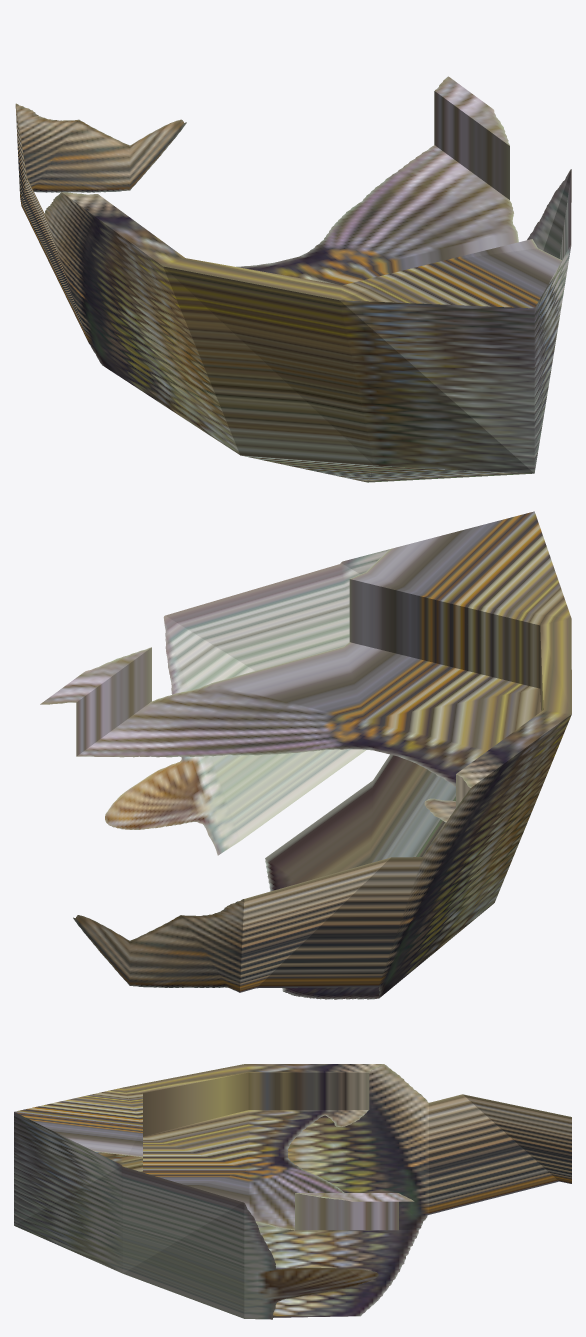
File: raft.obj
The picture shows the model from 3 angles, top to bottom: view 1: azimuth 30°, elevation 25°; view 2: azimuth 150°, elevation 25°; view 3: azimuth 270°, elevation 25°; orthographic projection. The views are drawn at different scales.
Visible parts, largest first — view 1: Cube; view 2: Cube; view 3: Cube.
Boxes of the visible parts, left/top/right/bottom form: Cube: left=15, top=76, right=571, bottom=482; Cube: left=40, top=511, right=571, bottom=999; Cube: left=14, top=1064, right=571, bottom=1319.
Size of the model in its own units: 3.53 by 2.44 by 6.04.
